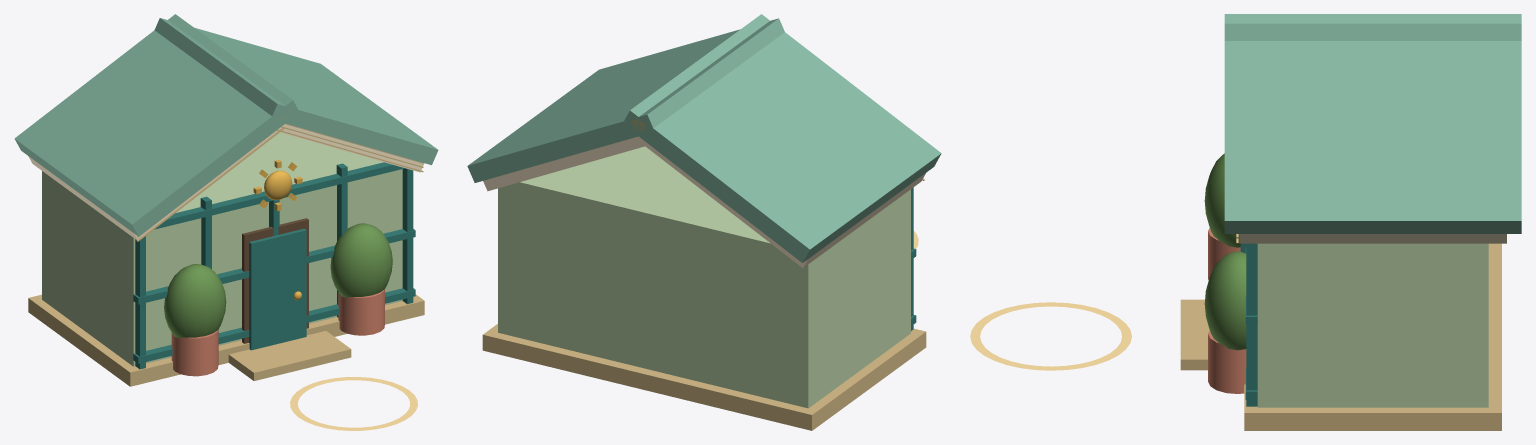
The model's file is word-greenhouse.glb.
The picture shows the model from 3 angles, left to right: view 1: azimuth 30°, elevation 25°; view 2: azimuth 150°, elevation 25°; view 3: azimuth 270°, elevation 25°; orthographic projection. The views are drawn at different scales.
Visible parts, largest first — view 1: word-greenhouse, door, chapter-marker; view 2: word-greenhouse; view 3: word-greenhouse, chapter-marker.
Boxes of the visible parts, x1,y1,x2,y2 form: word-greenhouse: (14,14,438,386); door: (249,228,306,350); chapter-marker: (290,377,417,430); word-greenhouse: (467,14,941,430); word-greenhouse: (1180,14,1521,430); chapter-marker: (970,302,1131,370).
Bounding box in the file's own units: 2.7 × 2.15 × 3.34.
